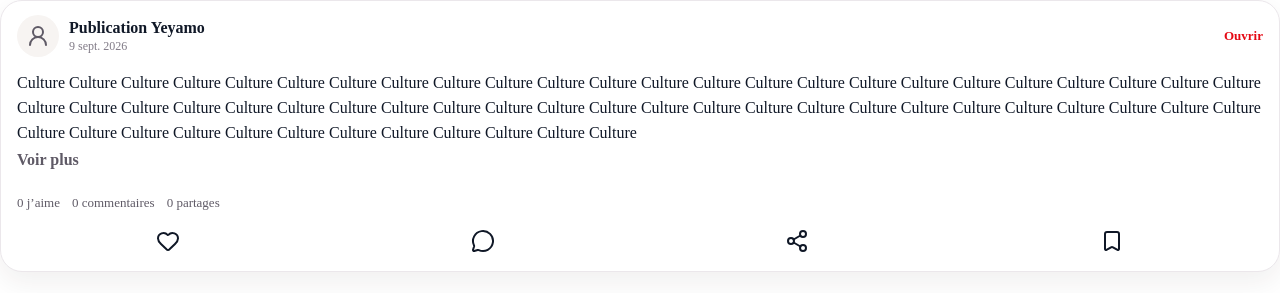
Test case: PostCard › expands long text without unsafe HTML
The width and height of the screenshot is (1280, 293).
Click the button "Voir plus". click: (48, 160)
box: [17, 151, 79, 169]
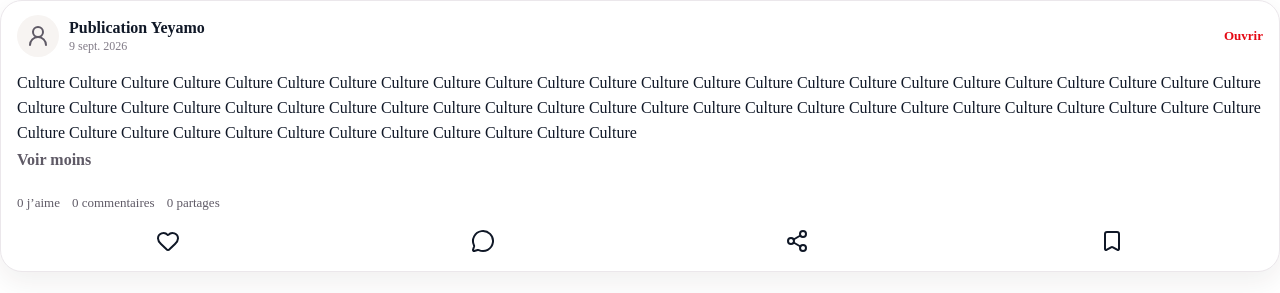
expect the button "Voir moins" is shown: met, box [17, 151, 91, 169]
